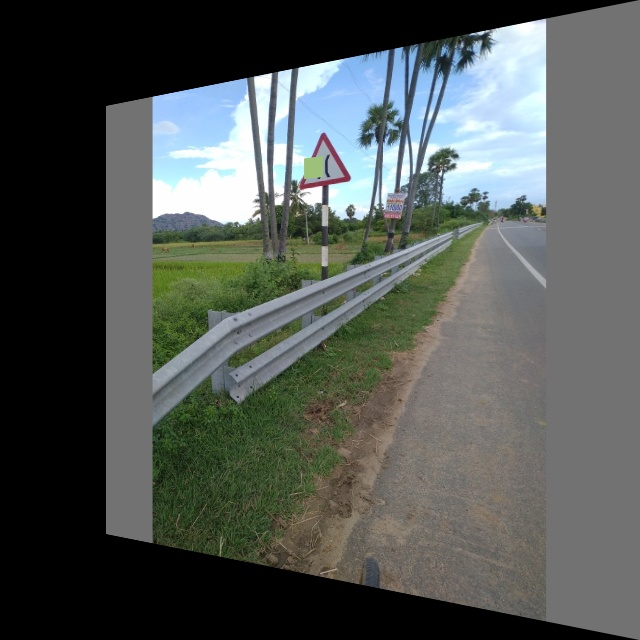Narrow_Bridge: (293, 122, 361, 194)
